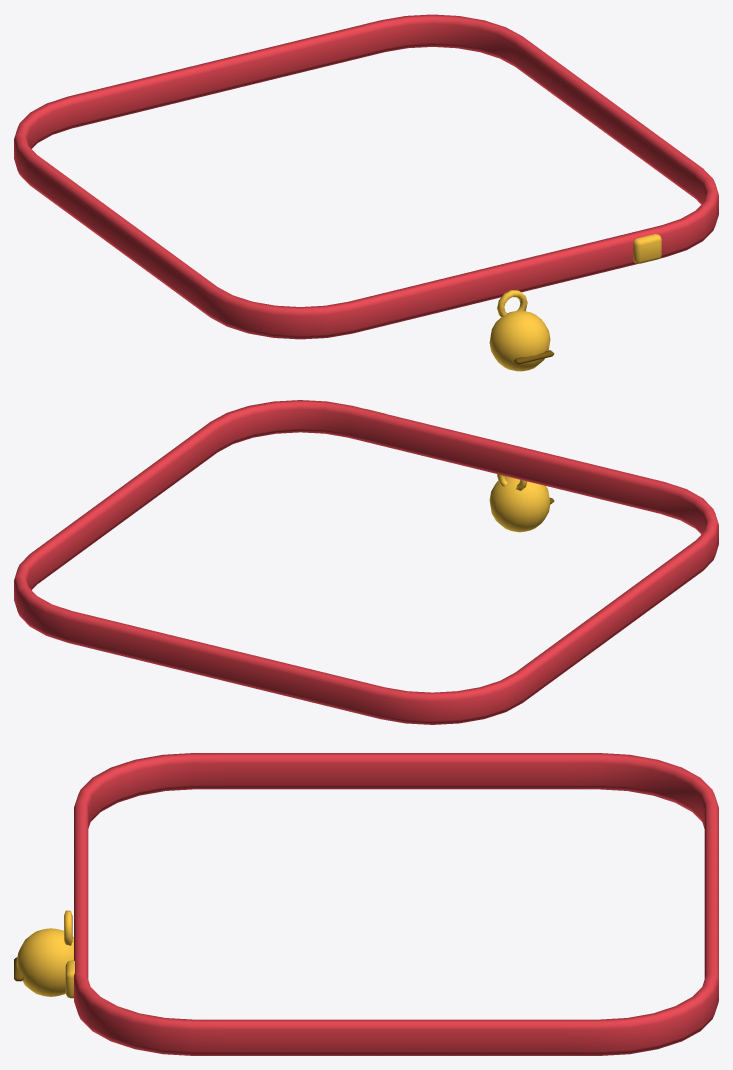
The model's file is bell_collar.glb.
3 renders of one model, top to bottom at view 1: azimuth 30°, elevation 25°; view 2: azimuth 150°, elevation 25°; view 3: azimuth 270°, elevation 25°, orthographic. The views are drawn at different scales.
Parts seen in each view (by area): view 1: band, bell, buckle; view 2: band, bell; view 3: band, bell.
Boxes of the visible parts, x1,y1,x2,y2 form: band: (14,14,718,339); bell: (489,310,550,371); buckle: (633,234,661,263); band: (14,400,718,724); bell: (489,476,550,532); band: (74,753,718,1055); bell: (16,928,73,996).
Size of the model in its own units: 1.31 by 0.2362 by 1.43.
